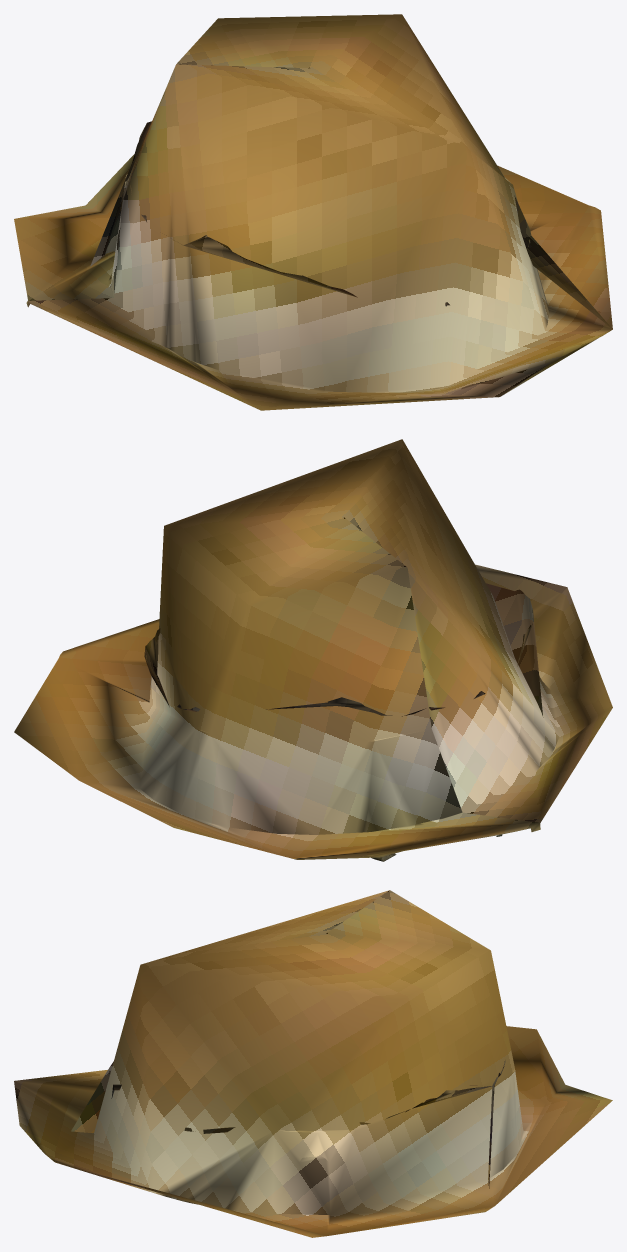
The model's file is Retail_Leadership_Summit-low.glb.
The picture shows the model from 3 angles, top to bottom: view 1: azimuth 30°, elevation 25°; view 2: azimuth 150°, elevation 25°; view 3: azimuth 270°, elevation 25°; orthographic projection. The views are drawn at different scales.
Parts seen in each view (by area): view 1: Retail_Leadership_Summit; view 2: Retail_Leadership_Summit; view 3: Retail_Leadership_Summit.
Part boxes in pixels (x1,y1,x2,y2): Retail_Leadership_Summit: [14, 14, 612, 410]; Retail_Leadership_Summit: [14, 439, 612, 861]; Retail_Leadership_Summit: [14, 890, 612, 1237].
Bounding box in the file's own units: 0.2549 × 0.1113 × 0.2873.
1 material, 1 textured.
